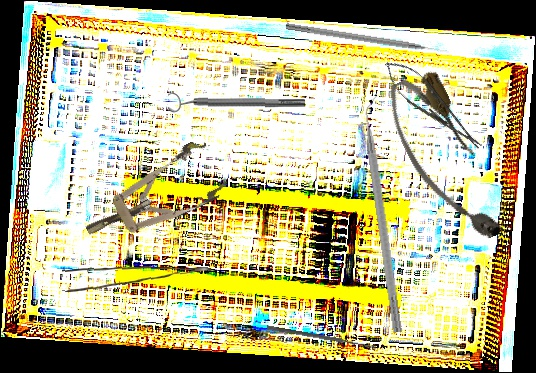Cannula: (377, 65, 513, 255)
Chopper: (360, 95, 415, 333)
Fixation Ring: (167, 90, 306, 116)
Hook Surgical: (285, 22, 450, 57)
Needle Holder: (375, 51, 491, 160)
Speculum: (72, 136, 231, 258)
Surgical Spoon: (266, 325, 377, 350)
Tissue Forceps: (61, 262, 212, 297)
